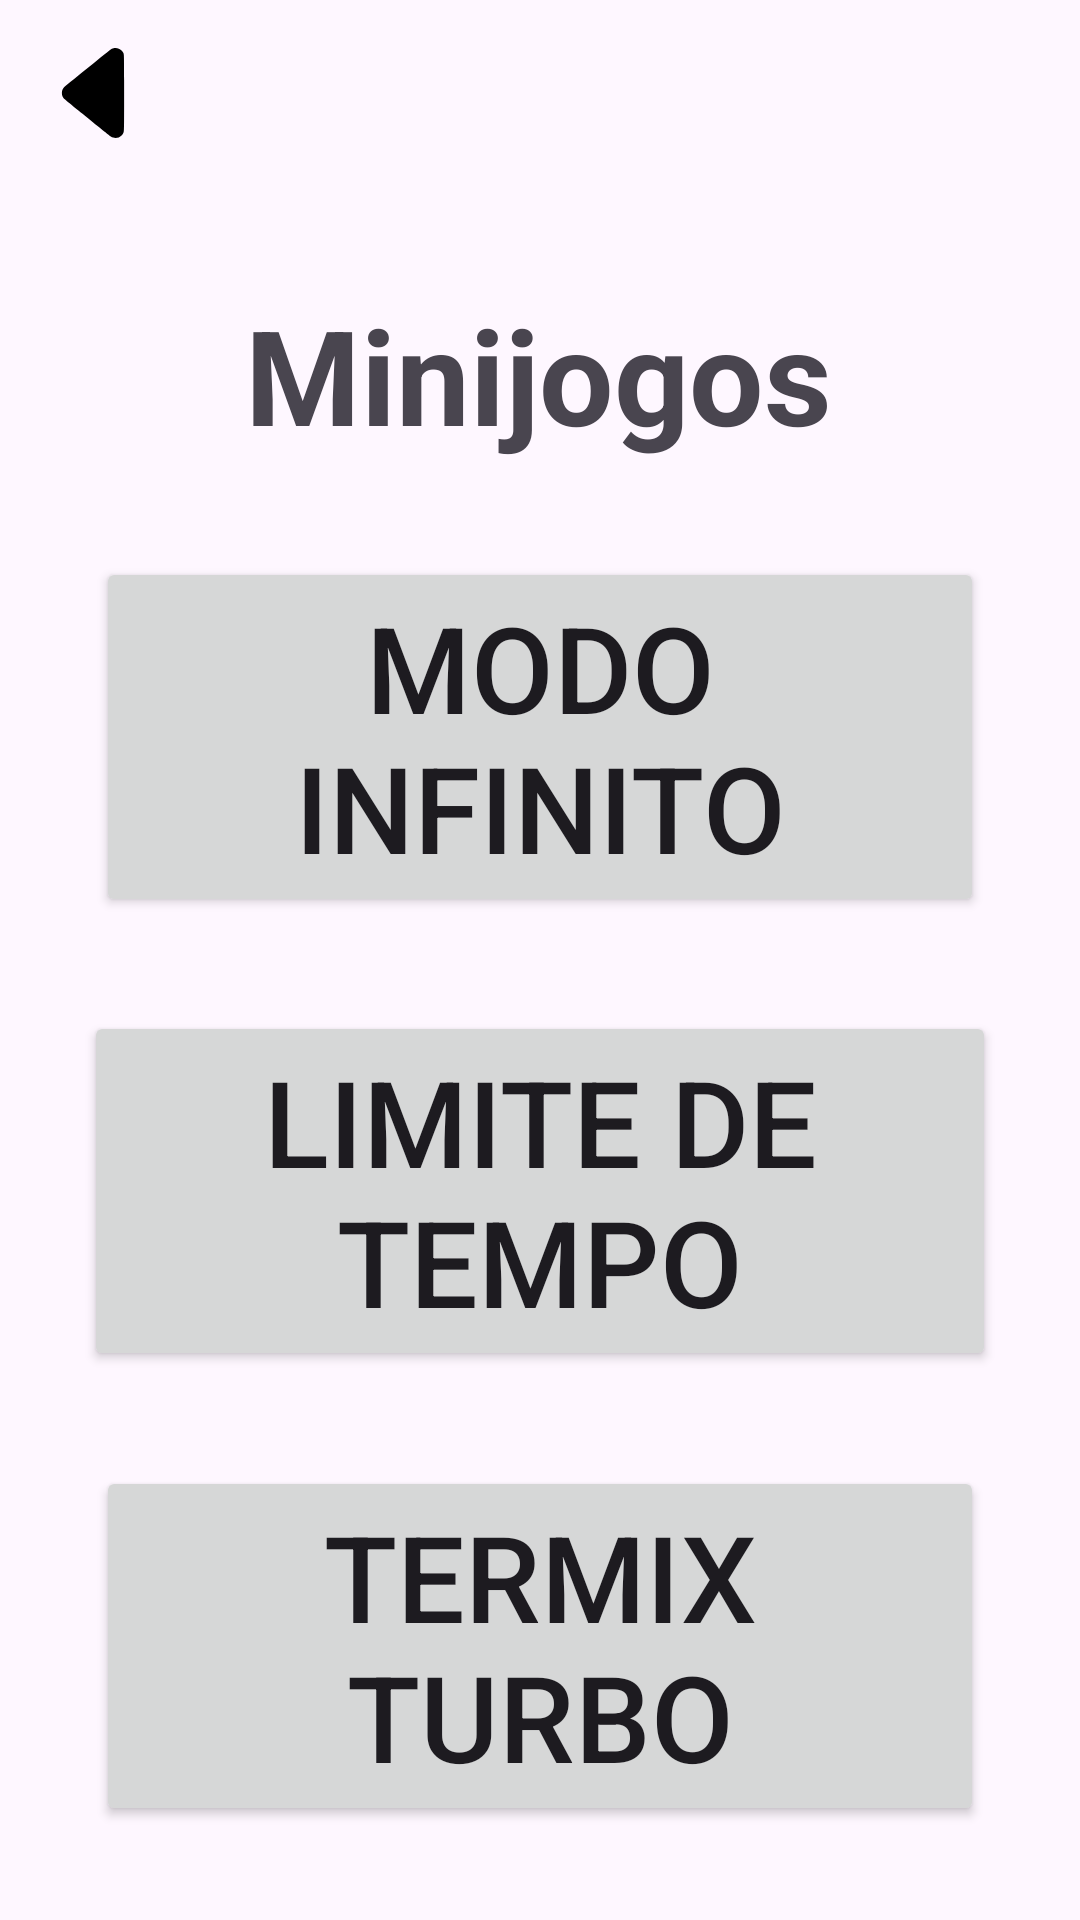

Icons on this 1080 x 1920 Android screen, each with the point to tap as (x,y):
Voltar para a tela inicial: (93,93)
